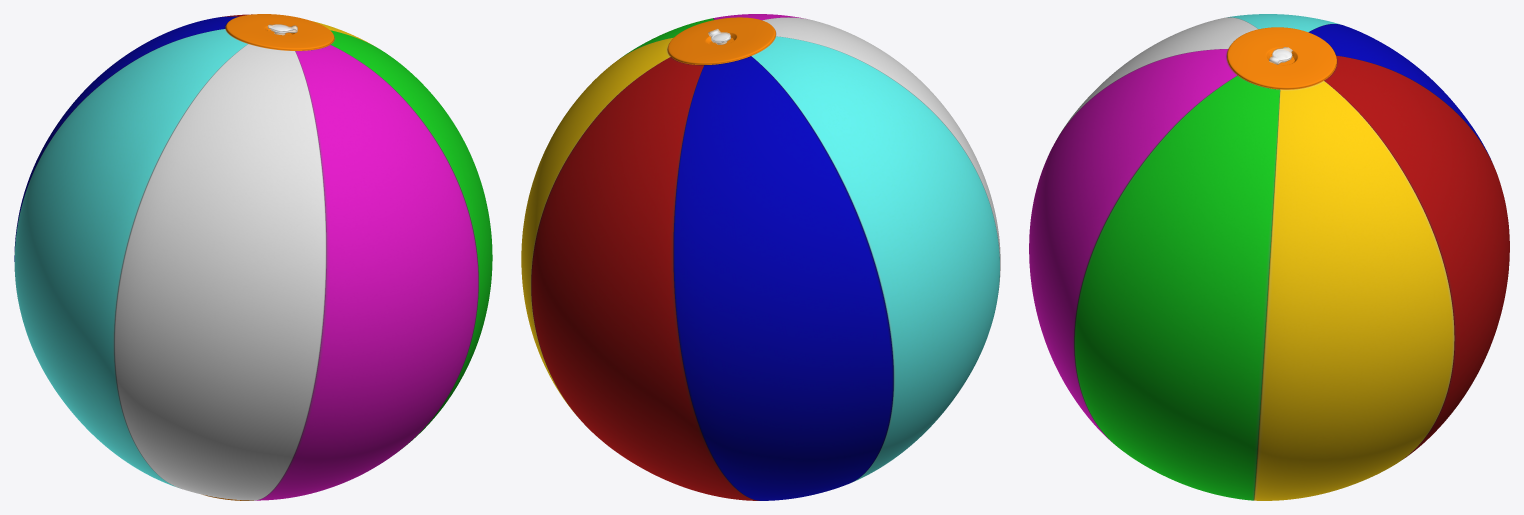
The model's file is pelota.glb.
3 renders of one model, left to right at view 1: azimuth 30°, elevation 25°; view 2: azimuth 150°, elevation 25°; view 3: azimuth 270°, elevation 25°, orthographic.
Parts seen in each view (by area): view 1: 13517_Beach_Ball_v2_L3; view 2: 13517_Beach_Ball_v2_L3; view 3: 13517_Beach_Ball_v2_L3.
Boxes of the visible parts, box(x1,y1,x2,y2) form: 13517_Beach_Ball_v2_L3: box(14, 14, 492, 500); 13517_Beach_Ball_v2_L3: box(521, 14, 1000, 500); 13517_Beach_Ball_v2_L3: box(1029, 14, 1509, 500).
Bounding box in the file's own units: 9.5 × 9.72 × 9.49.
Materials: 2 (1 with a texture image).
